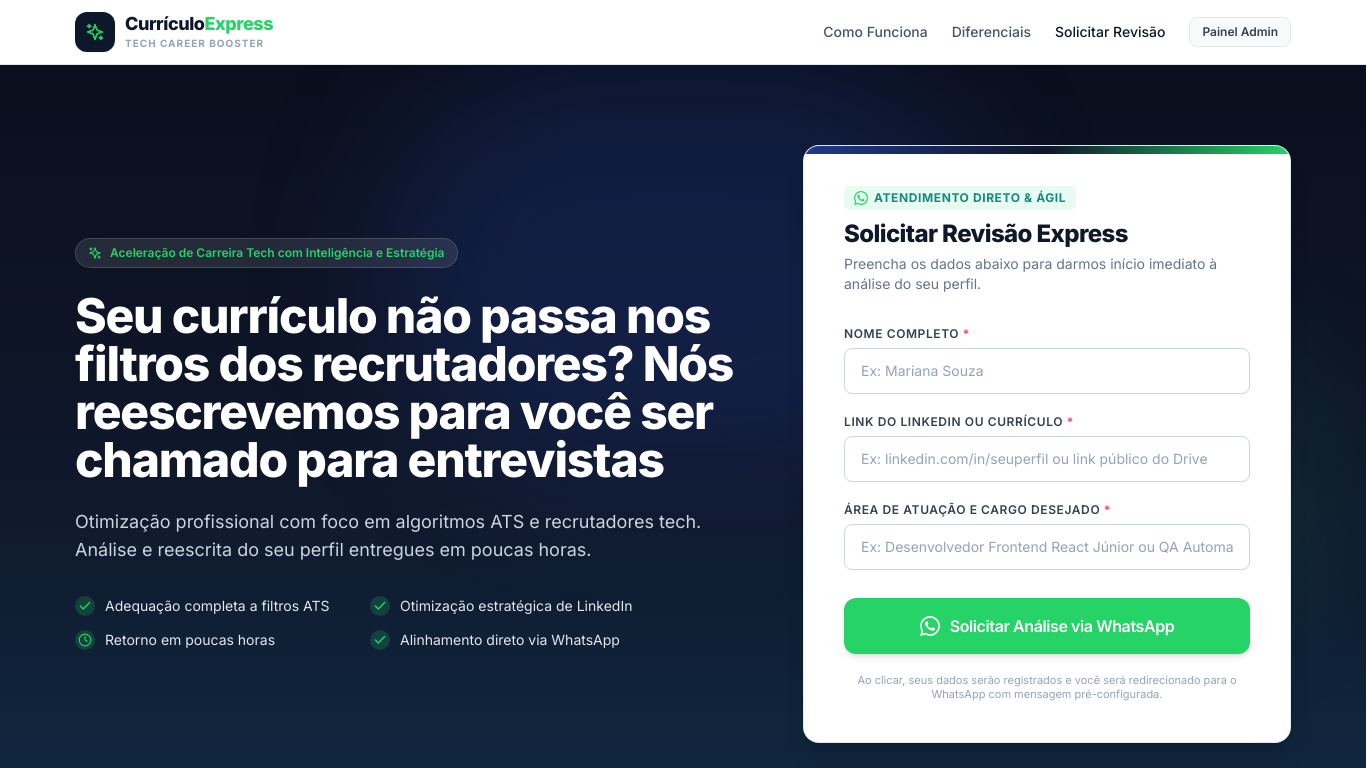
Test: LandingPage Component › submits valid form, saves lead to repository, and displays WhatsApp redirect feedback
The width and height of the screenshot is (1366, 768).
Type "Eduardo Silveira" into the field labelled "Nome Completo *".
click(1047, 371); type("Eduardo Silveira")  # box [844,348,1250,394]
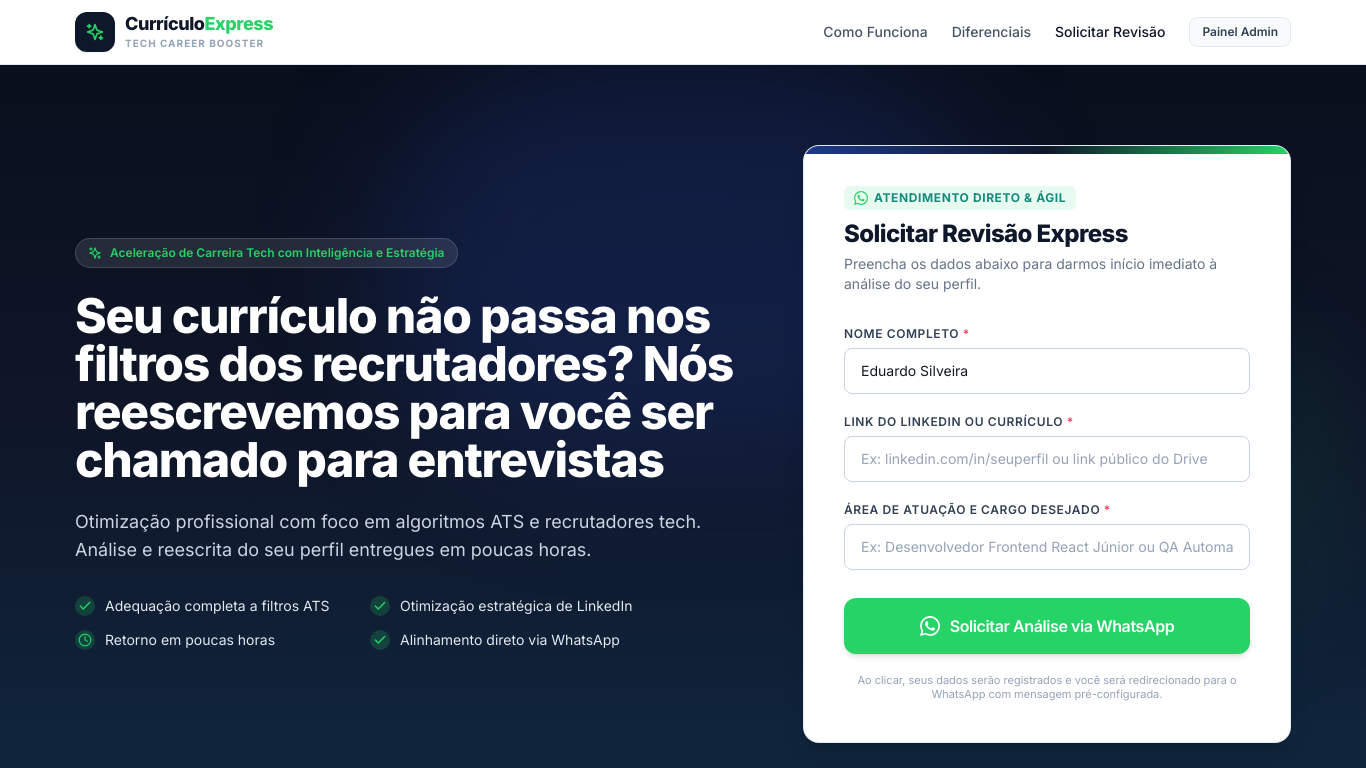
Type "https://linkedin.com/in/eduardo-silveira" into the field labelled "Link do LinkedIn ou Currículo *".
click(1047, 459); type("https://linkedin.com/in/eduardo-silveira")  # box [844,436,1250,482]
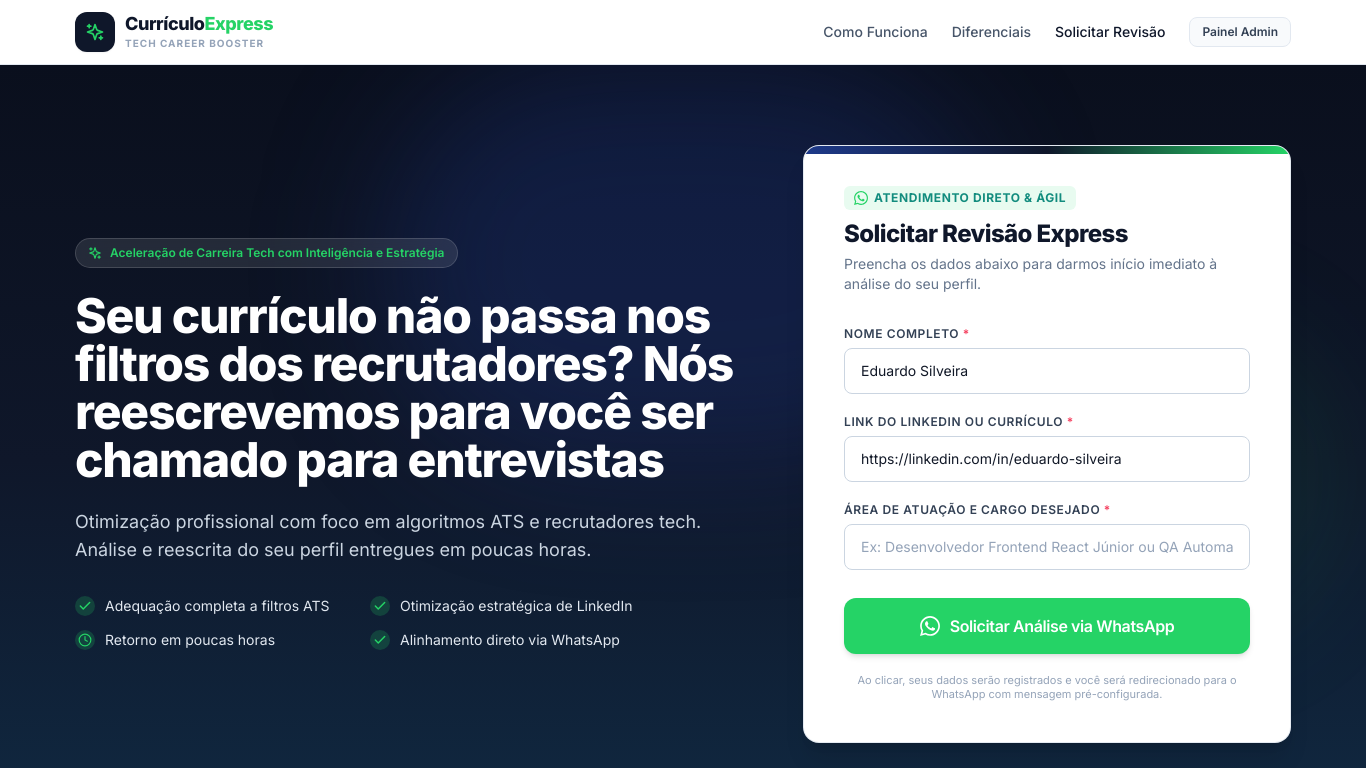
Type "Desenvolvedor Full Stack React/Node" into the field labelled "Área de Atuação e Cargo Desejado *".
click(1047, 547); type("Desenvolvedor Full Stack React/Node")  # box [844,524,1250,570]
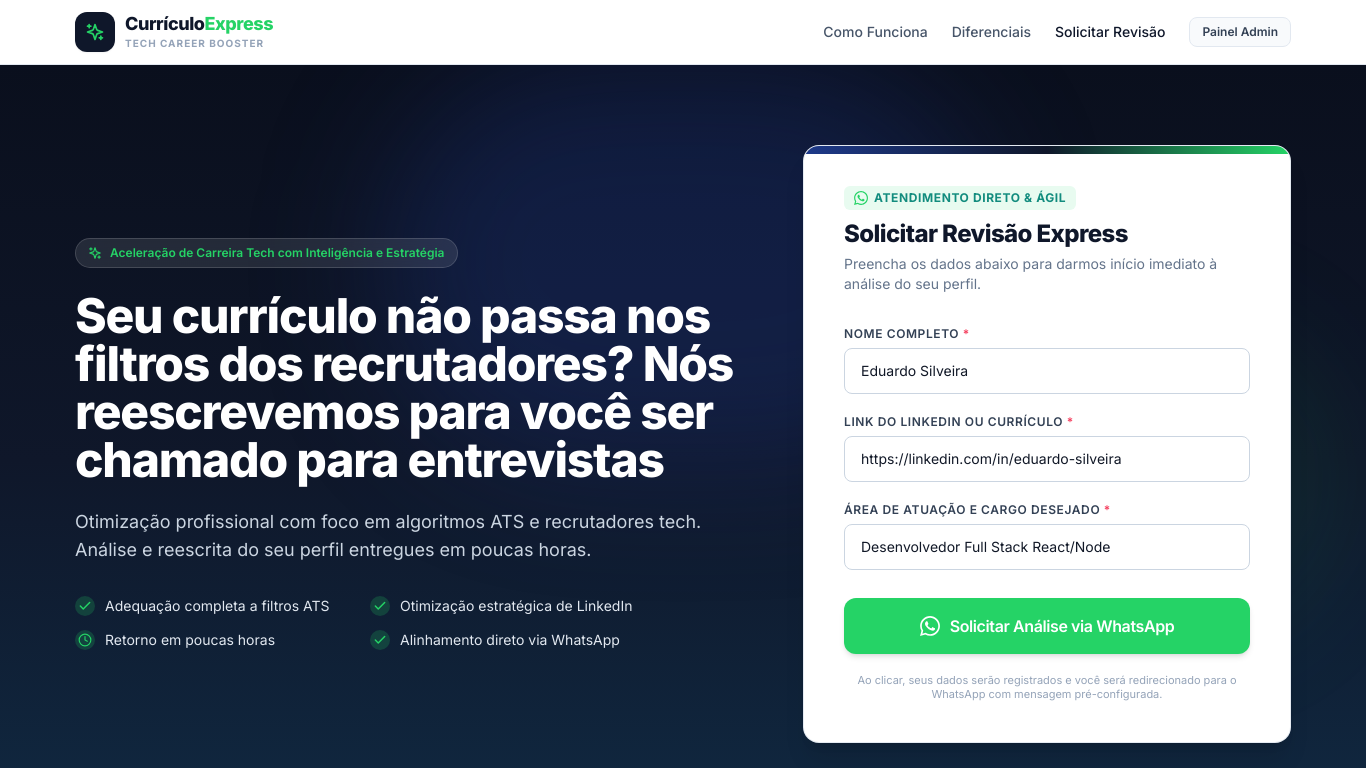
Click the button "Solicitar Análise via WhatsApp".
click(1047, 626)  # box [844,598,1250,654]
(page scrolled)
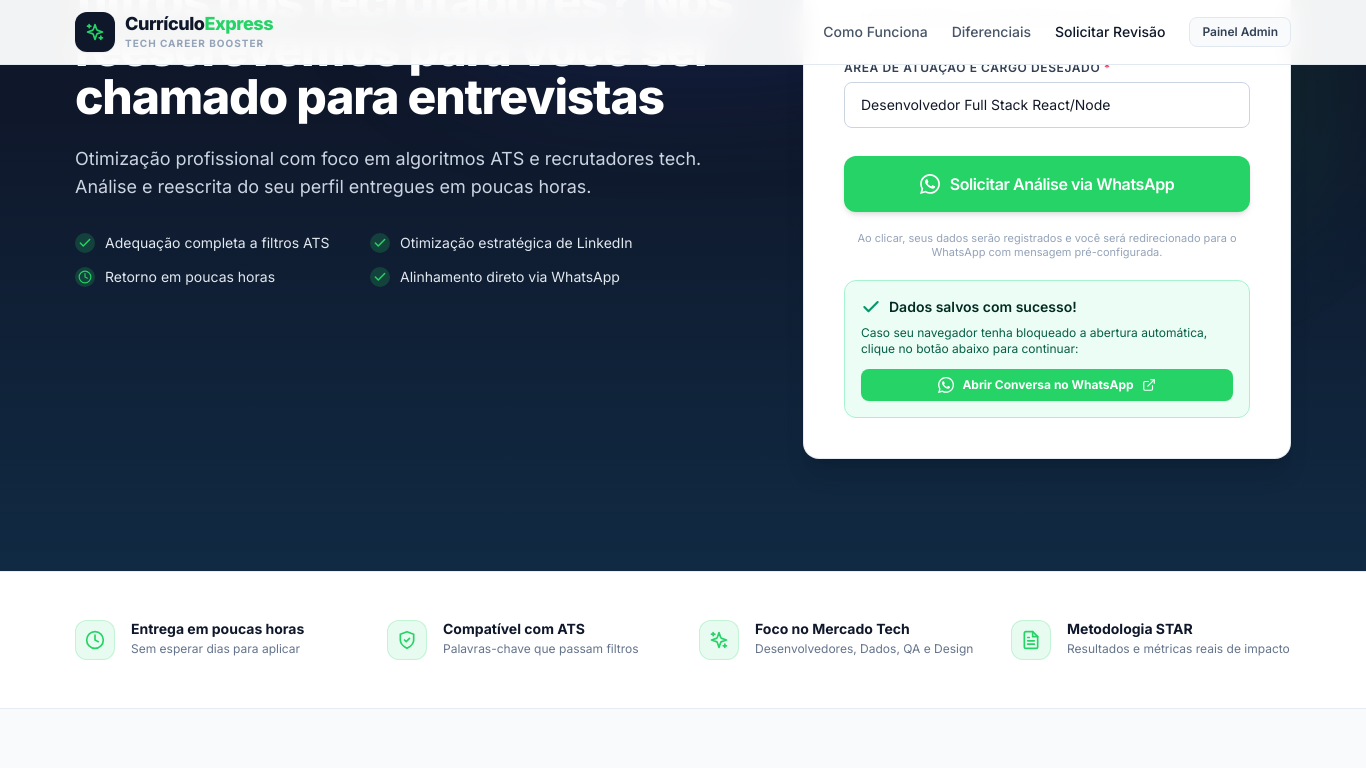
Result: the text "Dados salvos com sucesso!" is shown at [889,296,1077,316]
Result: the link "Abrir Conversa no WhatsApp" is shown at [861,368,1233,400]
